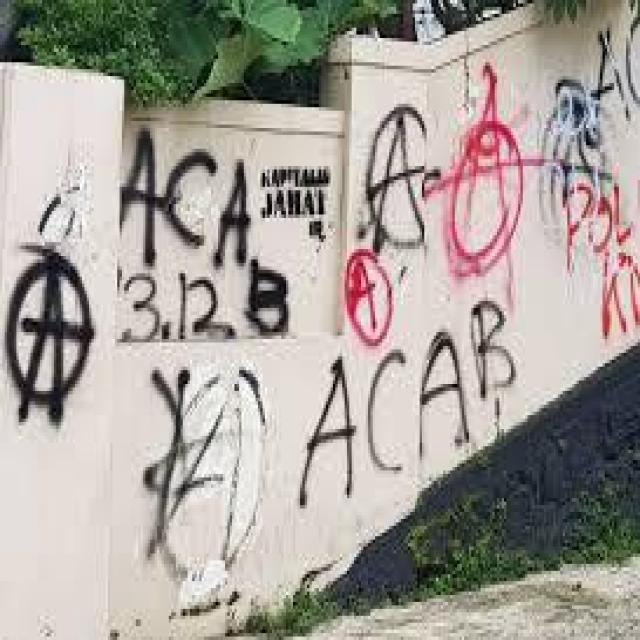nonspitting: (298, 300, 514, 512), (120, 124, 292, 338), (426, 59, 558, 280), (142, 370, 270, 582), (540, 13, 640, 208), (5, 246, 96, 430), (358, 103, 441, 260), (558, 180, 640, 336), (258, 162, 334, 244), (344, 245, 396, 348)
